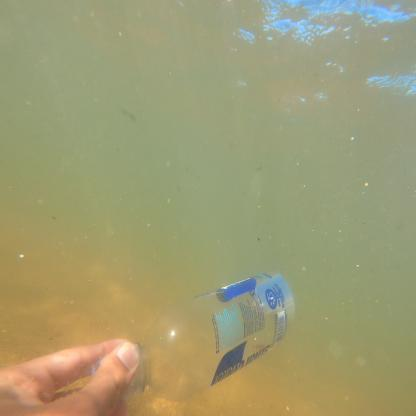Rác: (130, 262, 300, 396)
